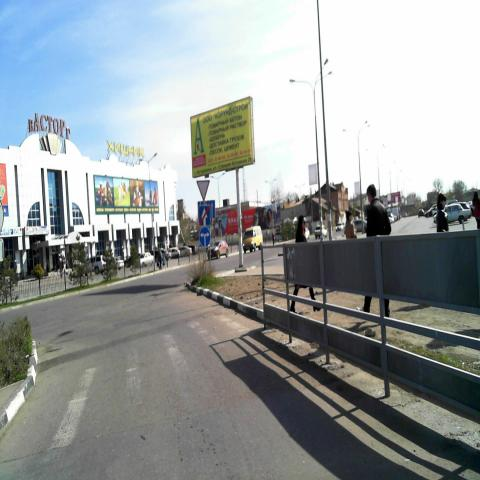4_1_6: (199, 227, 210, 247)
